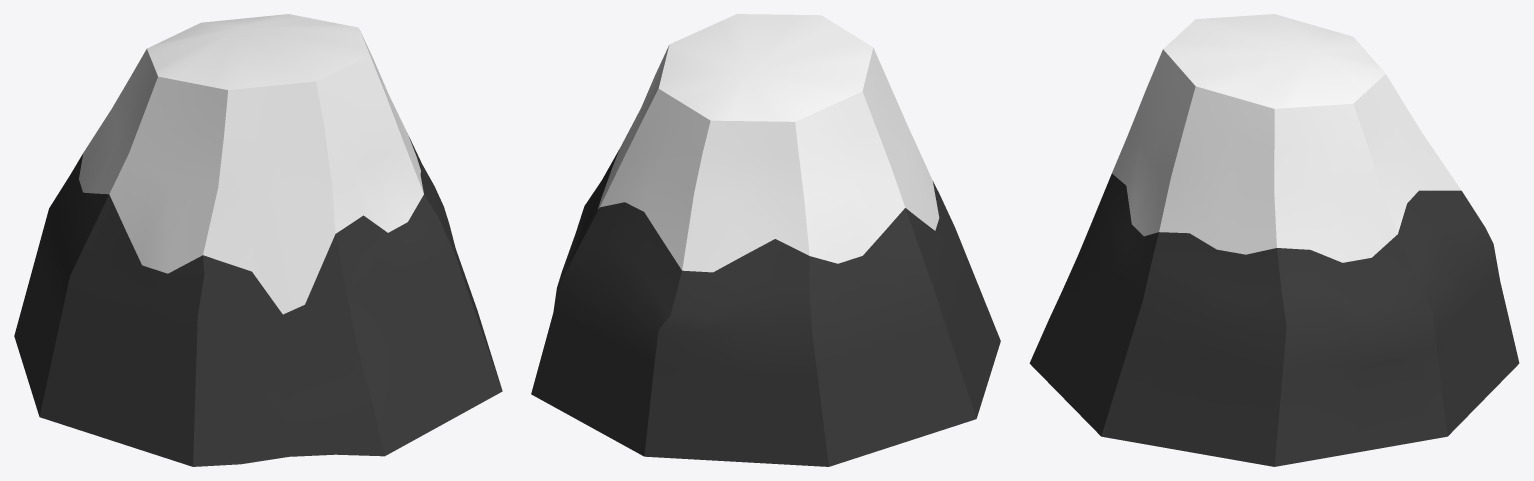
File: Pedra.glb
3 views of the same model, side by side, from view 1: azimuth 30°, elevation 25°; view 2: azimuth 150°, elevation 25°; view 3: azimuth 270°, elevation 25° (orthographic). The views are drawn at different scales.
Visible parts, largest first — view 1: Pedra; view 2: Pedra; view 3: Pedra.
Part boxes in pixels (x1=…): Pedra: x1=14, y1=14, x2=502, y2=466; Pedra: x1=531, y1=14, x2=1000, y2=466; Pedra: x1=1029, y1=14, x2=1519, y2=466.
Bounding box in the file's own units: 3.79 × 2.68 × 3.79.
Materials: 2 (1 with a texture image).
